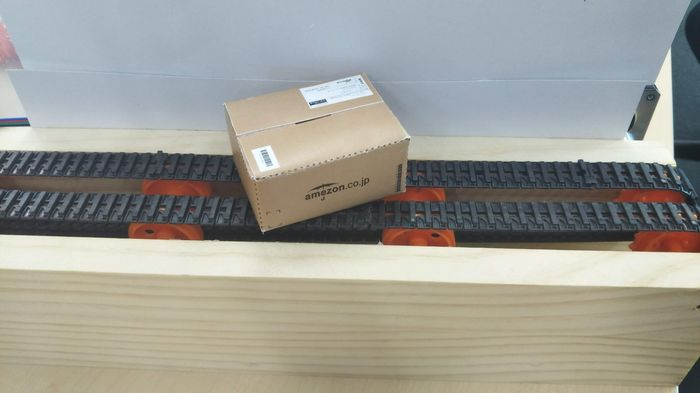box1: (220, 70, 409, 233)
